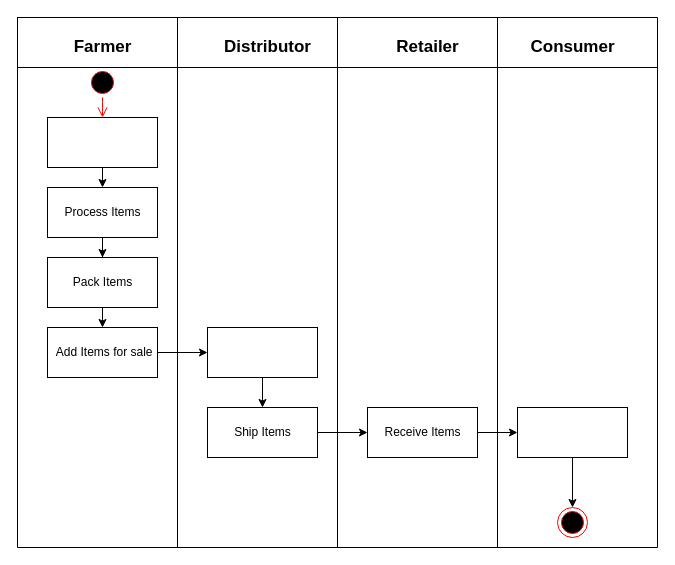
The diagram is 675 pixels wide and 565 high, and some of its shapes have lost their labels. The shapes that lost their labels are listed below. From the top down, each one's centre as x and y in pixels, then its label:
At (x=102, y=142): "Harvest Items".
At (x=262, y=352): "Buy Items".
At (x=572, y=432): "Purchase Items".
